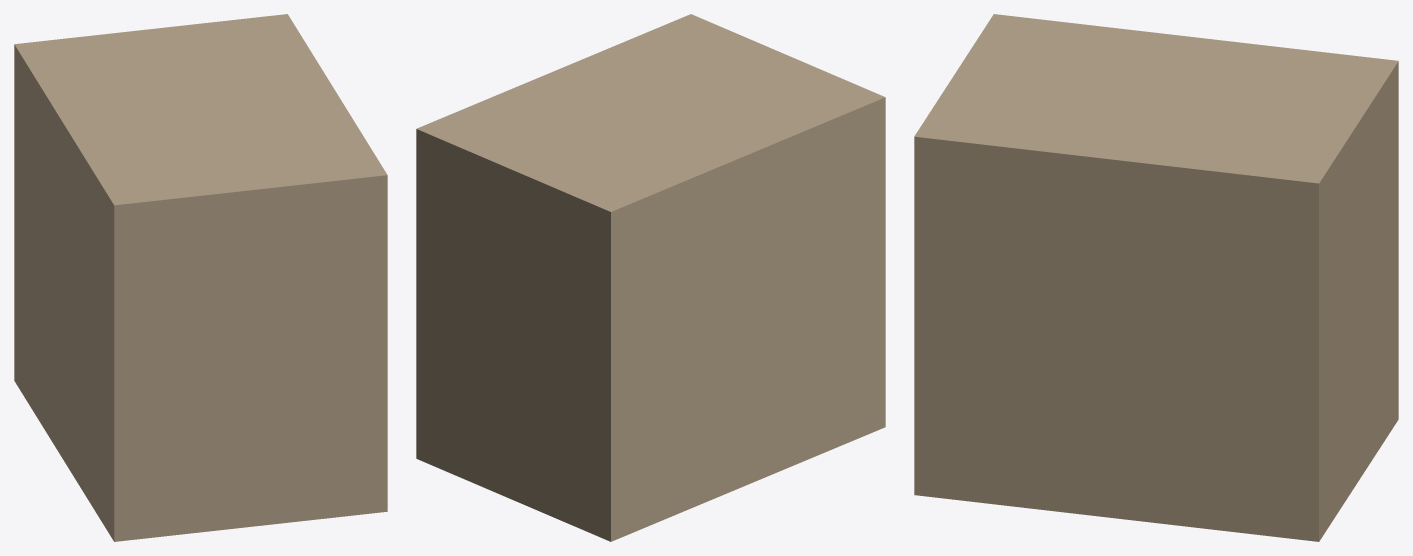
File: bld_353211801.dae
The picture shows the model from 3 angles, left to right: view 1: azimuth 30°, elevation 25°; view 2: azimuth 150°, elevation 25°; view 3: azimuth 270°, elevation 25°; orthographic projection. The views are drawn at different scales.
Parts seen in each view (by area): view 1: bld_353211801; view 2: bld_353211801; view 3: bld_353211801.
Boxes of the visible parts, left/top/right/bottom form: bld_353211801: left=14, top=14, right=387, bottom=541; bld_353211801: left=416, top=14, right=885, bottom=541; bld_353211801: left=914, top=14, right=1398, bottom=541.
Bounding box in the file's own units: 8.12 × 9.8 × 8.
